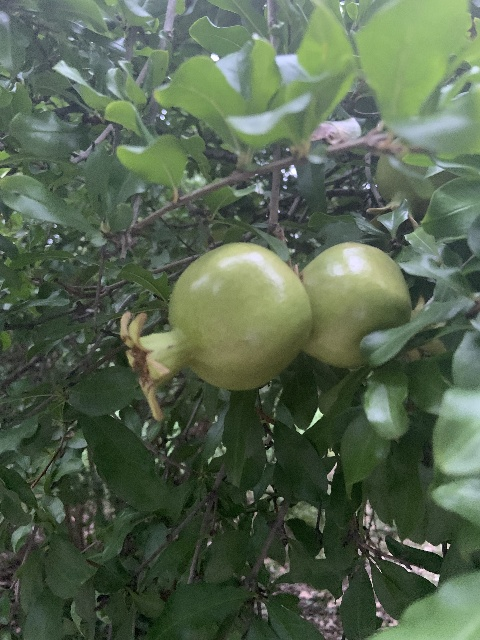mid-growth: (120, 241, 310, 418), (299, 241, 444, 368)
